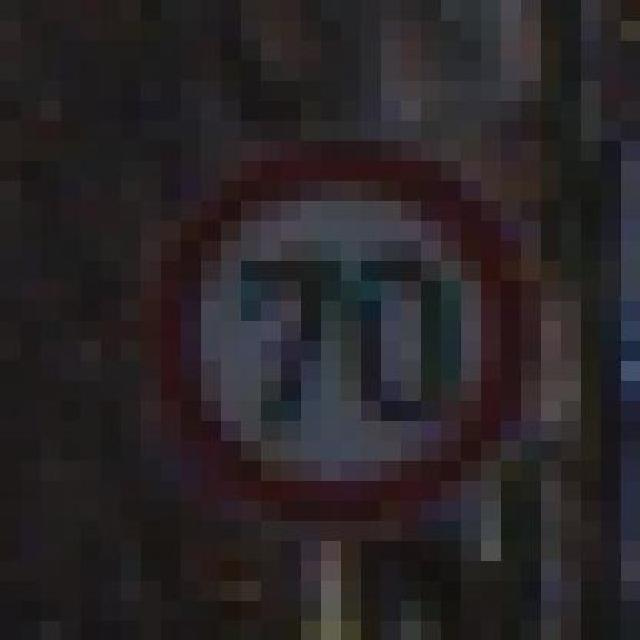forb_speed_over_70: (165, 145, 517, 512)
